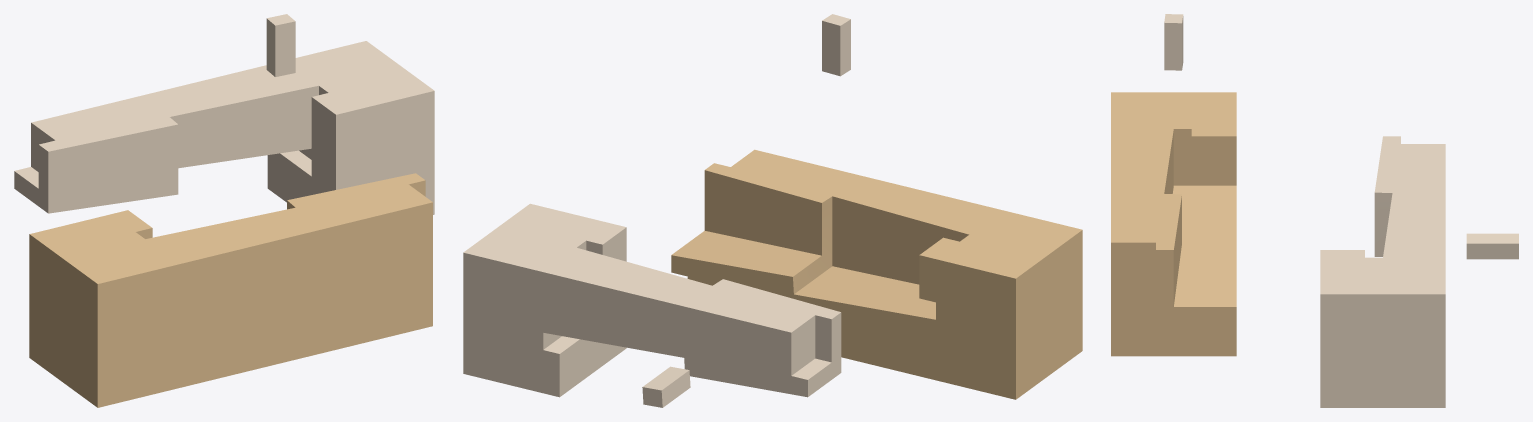
Rendered from Kakushi-kanawa-tsugi.gltf.
3 renders of one model, left to right at view 1: azimuth 30°, elevation 25°; view 2: azimuth 150°, elevation 25°; view 3: azimuth 270°, elevation 25°, orthographic. The views are drawn at different scales.
Size of the model in its own units: 0.2344 by 0.1541 by 0.2.
